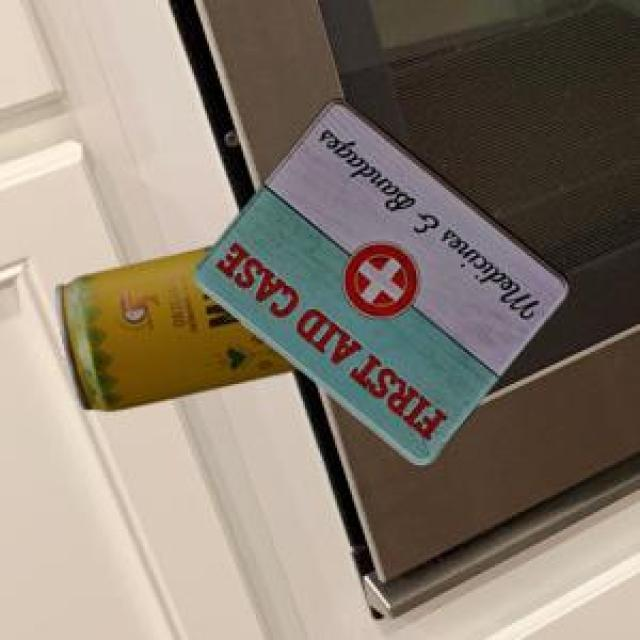Can: (191, 97, 564, 462), (54, 244, 295, 409)
